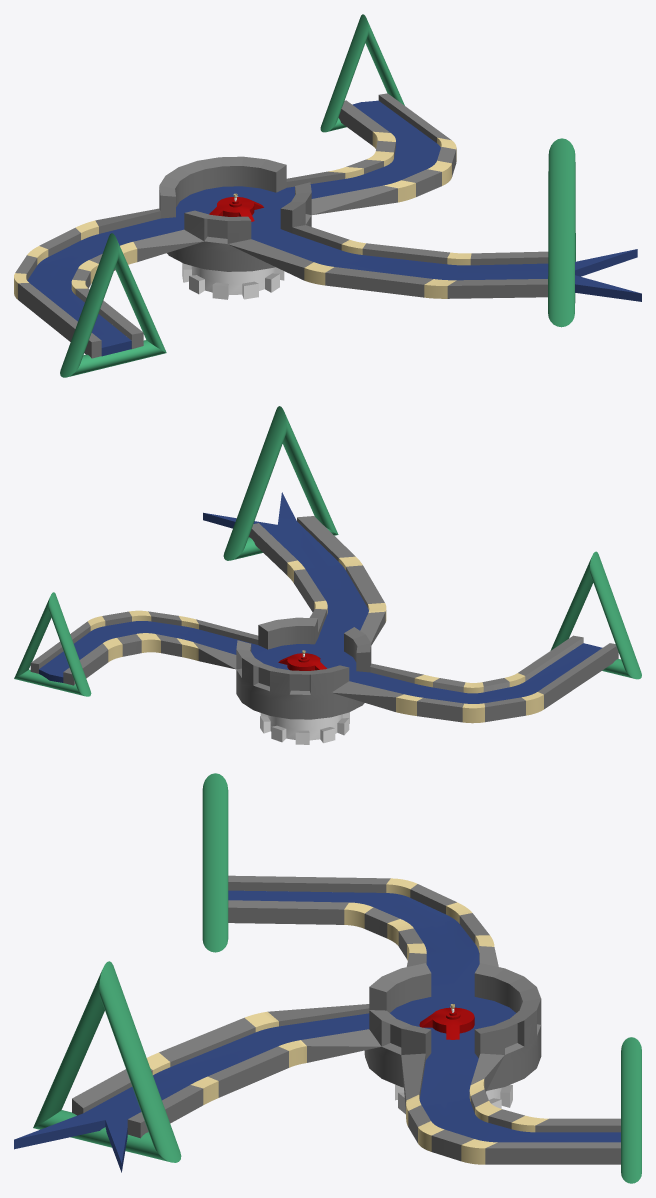
File: Campo1.fbx
3 views of the same model, one above another, from view 1: azimuth 30°, elevation 25°; view 2: azimuth 150°, elevation 25°; view 3: azimuth 270°, elevation 25° (orthographic). The views are drawn at different scales.
Parts seen in each view (by area): view 1: campo, pTorus3, pTorus2, pTorus1; view 2: campo, pTorus3, pTorus2, pTorus1; view 3: campo, pTorus3, pTorus2, pTorus1.
Boxes of the visible parts, bbox=[...] form: campo: bbox=[14, 93, 641, 358]; pTorus3: bbox=[548, 138, 575, 327]; pTorus2: bbox=[60, 233, 166, 377]; pTorus1: bbox=[320, 14, 404, 132]; campo: bbox=[30, 492, 618, 744]; pTorus3: bbox=[223, 406, 338, 560]; pTorus2: bbox=[550, 551, 641, 679]; pTorus1: bbox=[14, 592, 91, 696]; campo: bbox=[14, 875, 620, 1172]; pTorus3: bbox=[33, 961, 181, 1162]; pTorus2: bbox=[202, 773, 228, 952]; pTorus1: bbox=[621, 1037, 641, 1183].
Size of the model in its own units: 98.59 by 36.44 by 87.1.
